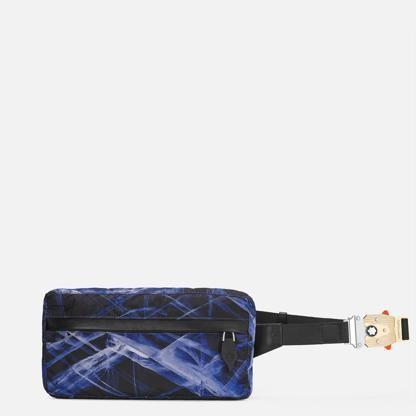not trash: (44, 289, 411, 399)
